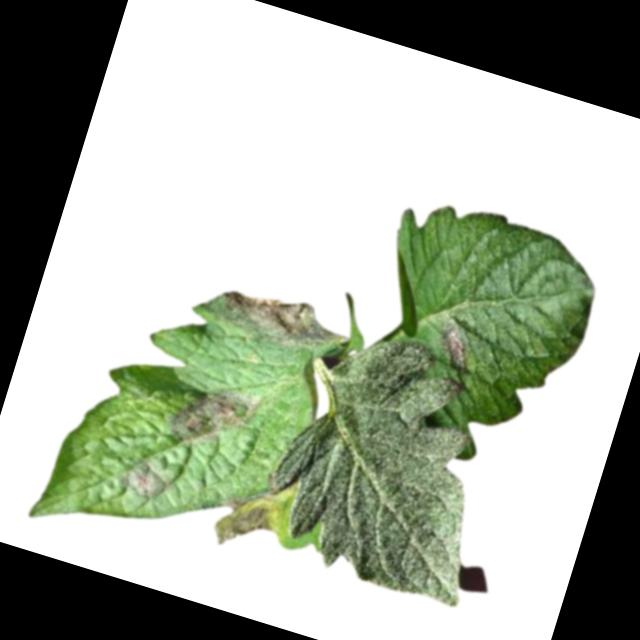Late_blight: (199, 273, 350, 364), (165, 367, 267, 462), (209, 468, 291, 560), (109, 450, 176, 507), (430, 321, 472, 368)
healthy: (244, 311, 527, 611)
